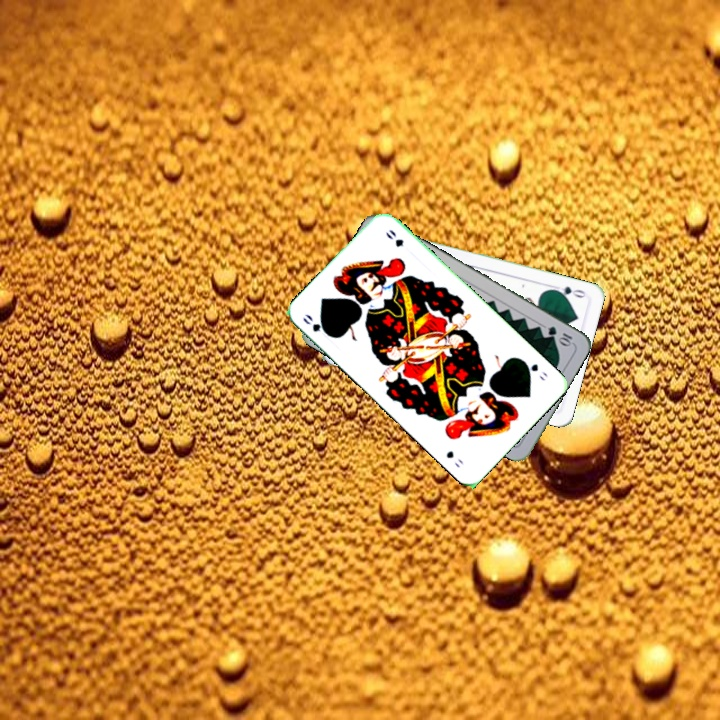G10: (544, 322, 575, 348)
GO: (299, 310, 334, 340), (518, 356, 550, 383), (548, 281, 588, 301)
